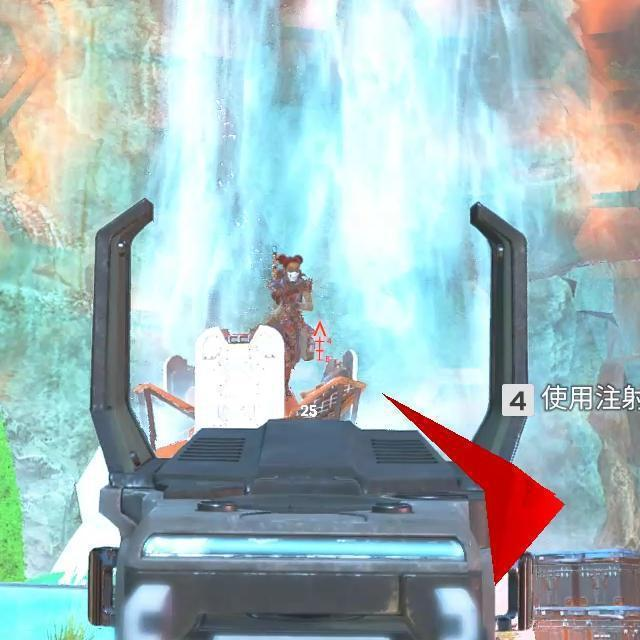avatar: (266, 250, 318, 365)
